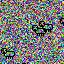sheep: (0, 48, 15, 60), (32, 25, 47, 36), (39, 21, 53, 32), (60, 18, 64, 26)
